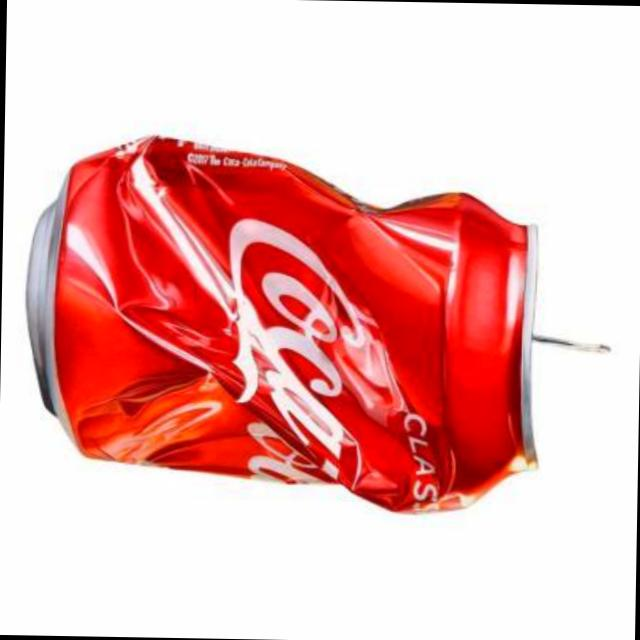metal: (30, 135, 537, 509)
